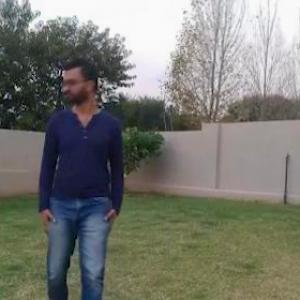follow: (30, 39, 133, 299)
